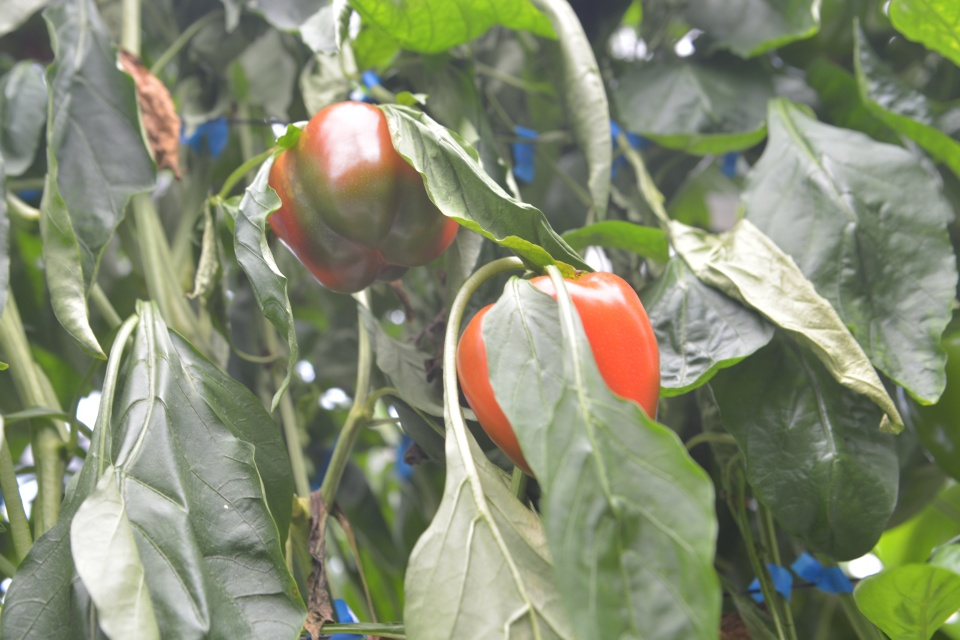fruit: (453, 268, 662, 482), (264, 98, 461, 296)
